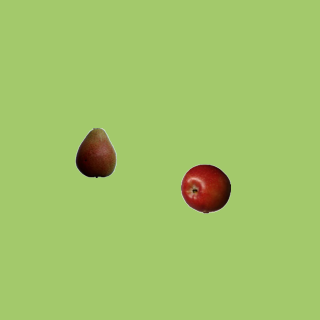Apple Braeburn: (180, 163, 230, 213)
Pear Forelle: (70, 127, 120, 177)
